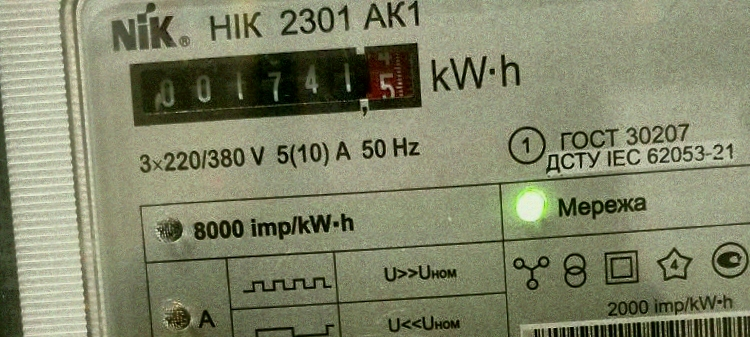0: (192, 70, 213, 105), (156, 75, 177, 109)
1: (228, 66, 247, 103), (338, 59, 354, 95)
4: (300, 60, 321, 96), (375, 48, 392, 67)
5: (375, 68, 396, 100)
7: (264, 67, 283, 103)
screen: (122, 35, 429, 133)
